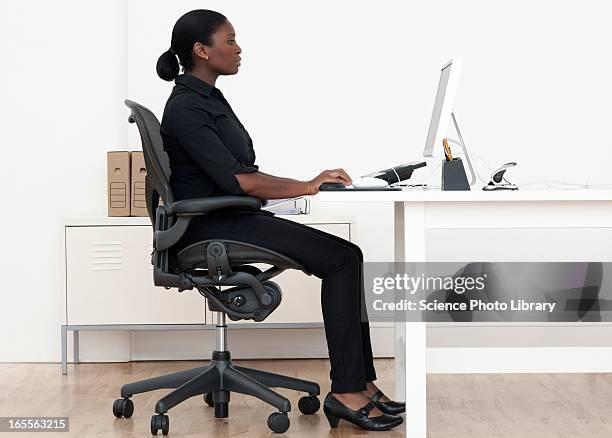Good Sitting Posture: (153, 8, 406, 432)
